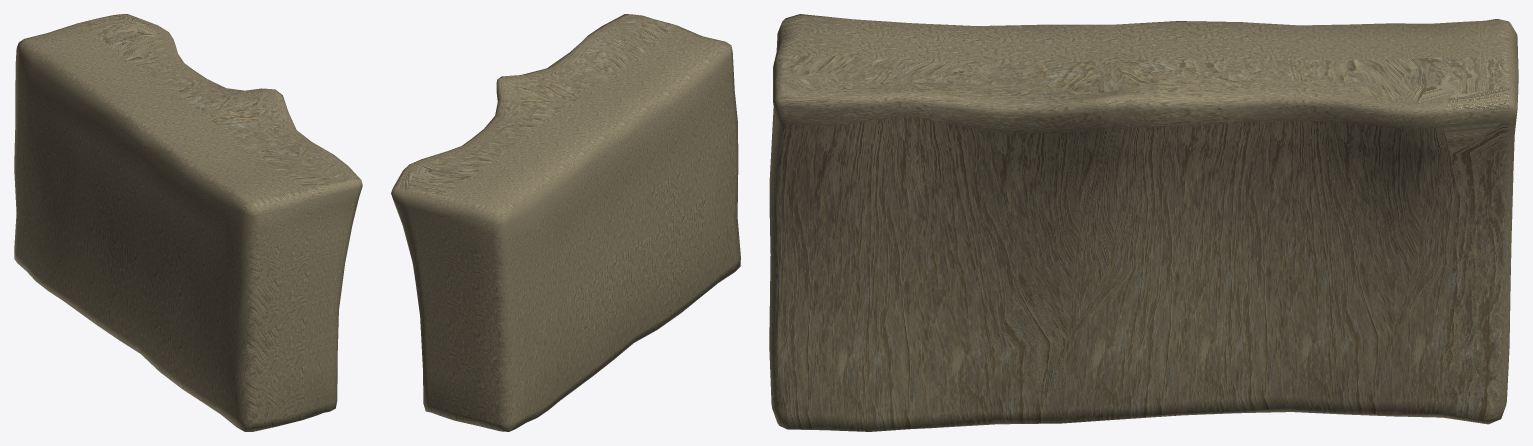
File: saltmine_cliff.dae
3 renders of one model, left to right at view 1: azimuth 30°, elevation 25°; view 2: azimuth 150°, elevation 25°; view 3: azimuth 270°, elevation 25°, orthographic. The views are drawn at different scales.
Visible parts, largest first — view 1: cliff_1; view 2: cliff_1; view 3: cliff_1.
Part boxes in pixels (<box>): cliff_1: <box>14,14,362,431</box>; cliff_1: <box>391,14,740,431</box>; cliff_1: <box>769,14,1518,431</box>.
Bounding box in the file's own units: 2.52 × 3.96 × 7.26.
